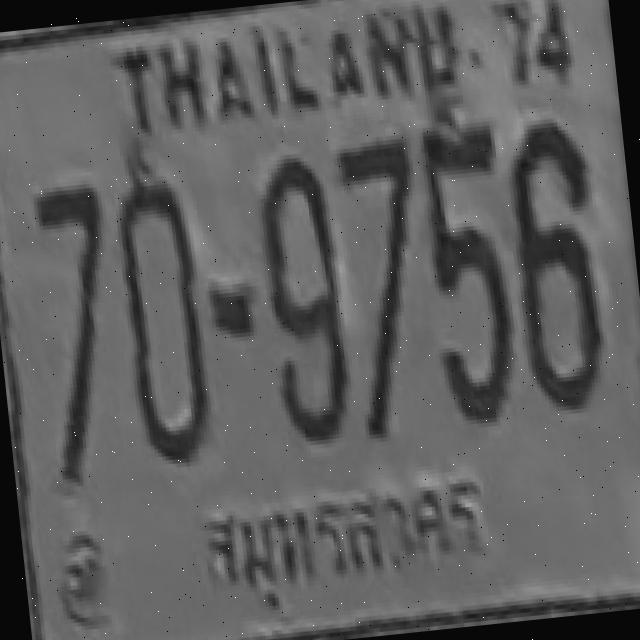0: (111, 174, 214, 462), (252, 150, 341, 334)
6: (499, 117, 610, 411)
7: (32, 182, 114, 364), (336, 136, 422, 306)
9: (255, 169, 352, 441)
SamutSakhon: (183, 456, 502, 625)
